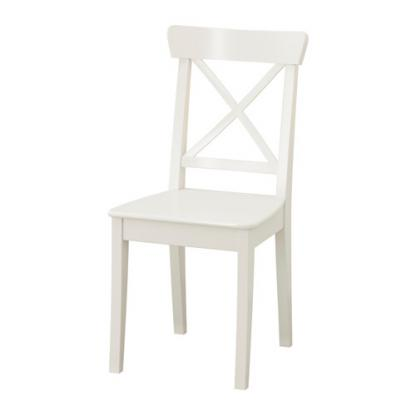Chair: (105, 22, 312, 394)
